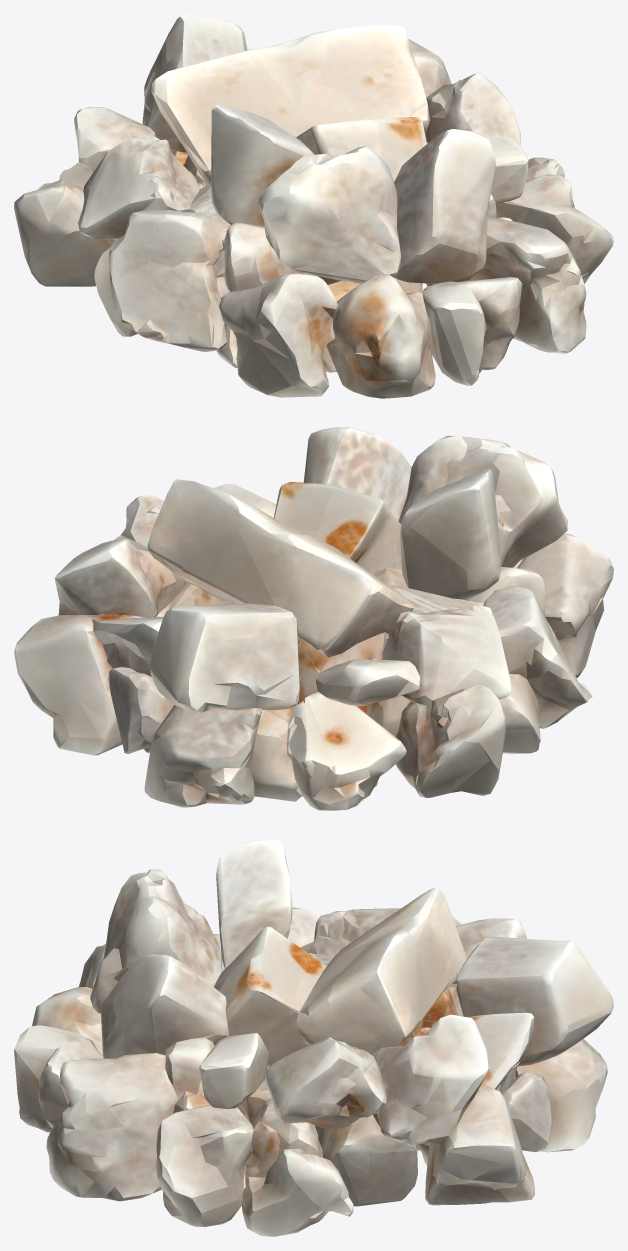
File: min2-salt-final.glb
3 renders of one model, top to bottom at view 1: azimuth 30°, elevation 25°; view 2: azimuth 150°, elevation 25°; view 3: azimuth 270°, elevation 25°, orthographic. The views are drawn at different scales.
Parts seen in each view (by area): view 1: Mesh_0; view 2: Mesh_0; view 3: Mesh_0.
Part boxes in pixels (x1=…): Mesh_0: x1=14, y1=14, x2=613, y2=398; Mesh_0: x1=14, y1=427, x2=613, y2=810; Mesh_0: x1=14, y1=839, x2=613, y2=1236.
Bounding box in the file's own units: 0.8684 × 0.4 × 0.9502.
1 material, 1 textured.
